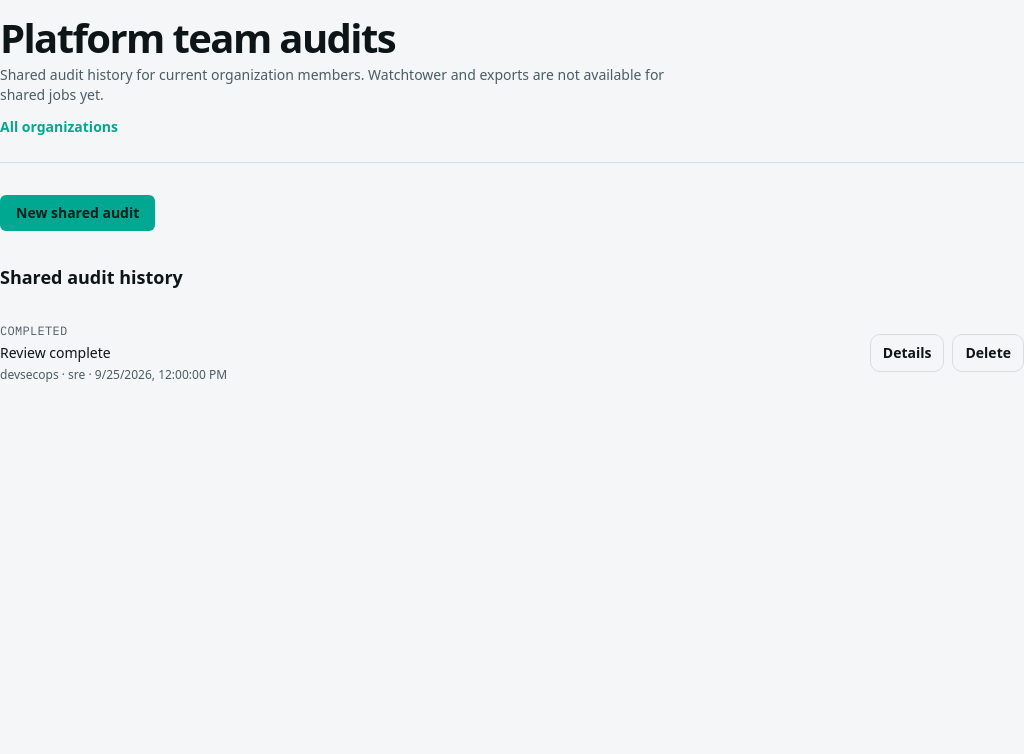
it: explains an empty failed audit result (partial: false)
Click the button "Details" at (907, 353), box x1=870 y1=334 x2=944 y2=372
(page scrolled)
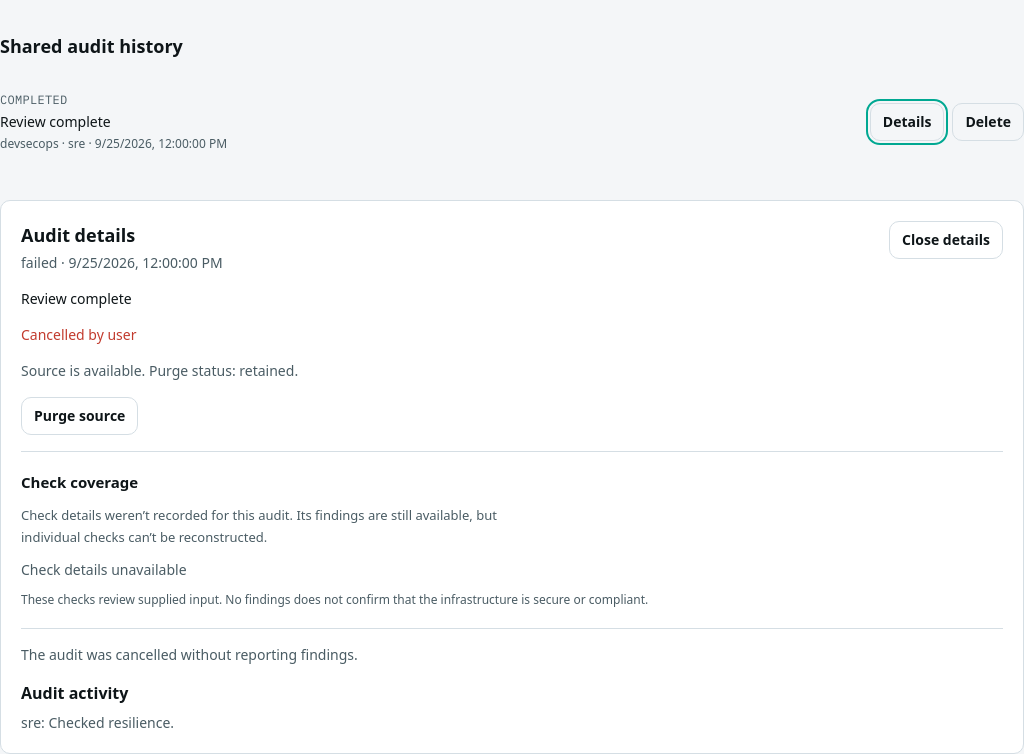
expect the text "The audit was cancelled without reporting findings." is shown: met, box x1=21 y1=645 x2=358 y2=664
